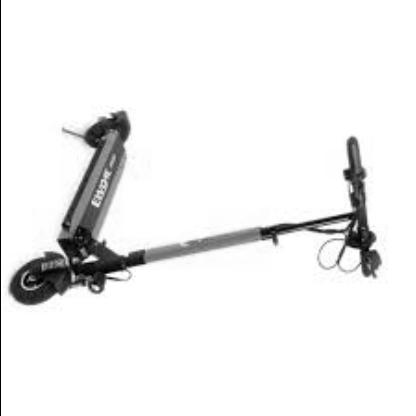bike: (10, 111, 385, 306)
